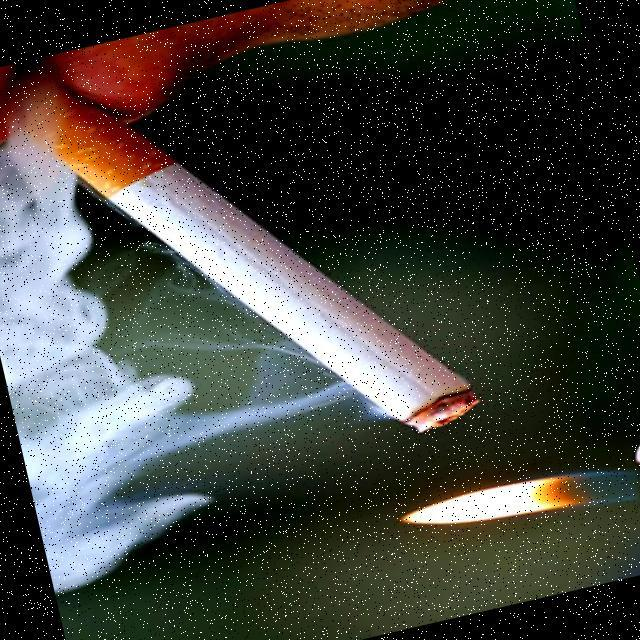cigarette: (4, 37, 494, 504)
